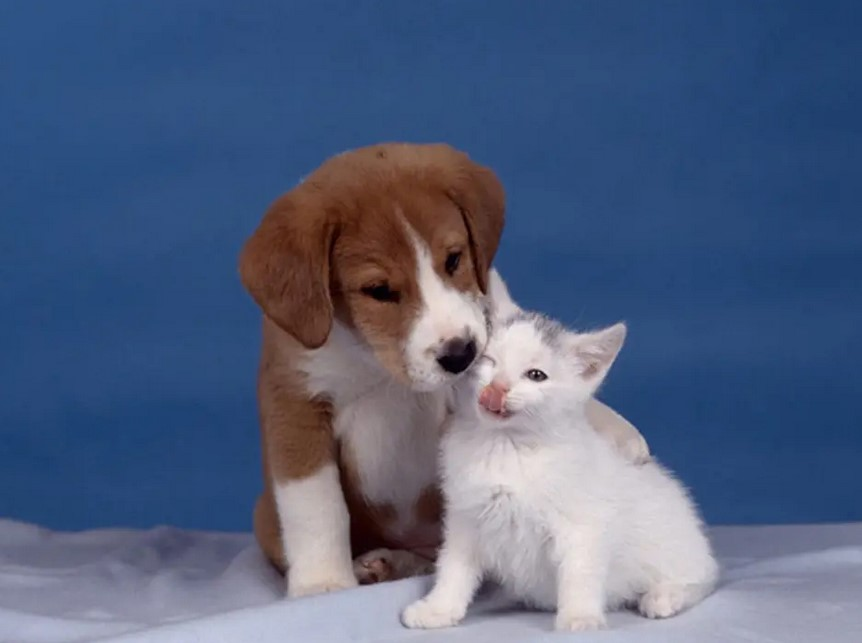cat: (397, 264, 723, 630)
dog: (239, 142, 508, 599)
